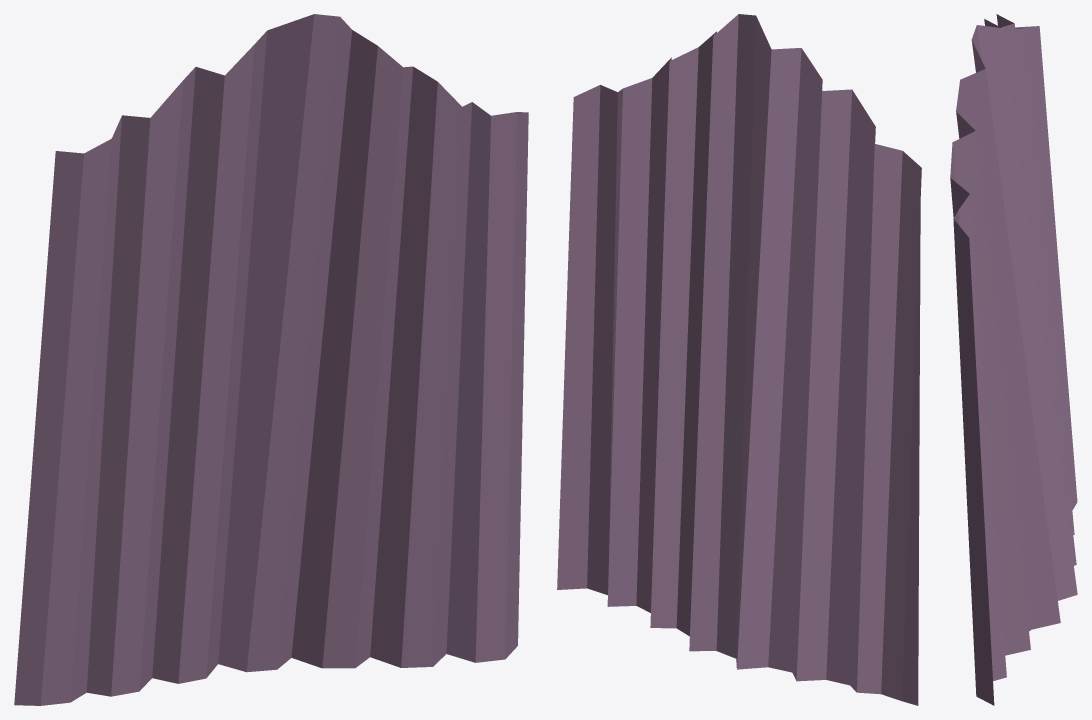
Rendered from Baricade_01_02.fbx.
3 renders of one model, left to right at view 1: azimuth 30°, elevation 25°; view 2: azimuth 150°, elevation 25°; view 3: azimuth 270°, elevation 25°, orthographic. The views are drawn at different scales.
Visible parts, largest first — view 1: Baricade_01_02; view 2: Baricade_01_02; view 3: Baricade_01_02.
Part boxes in pixels (x1,y1,x2,y2): Baricade_01_02: [14, 14, 528, 705]; Baricade_01_02: [557, 14, 921, 705]; Baricade_01_02: [950, 14, 1077, 705].
Bounding box in the file's own units: 199 × 289 × 56.38.
